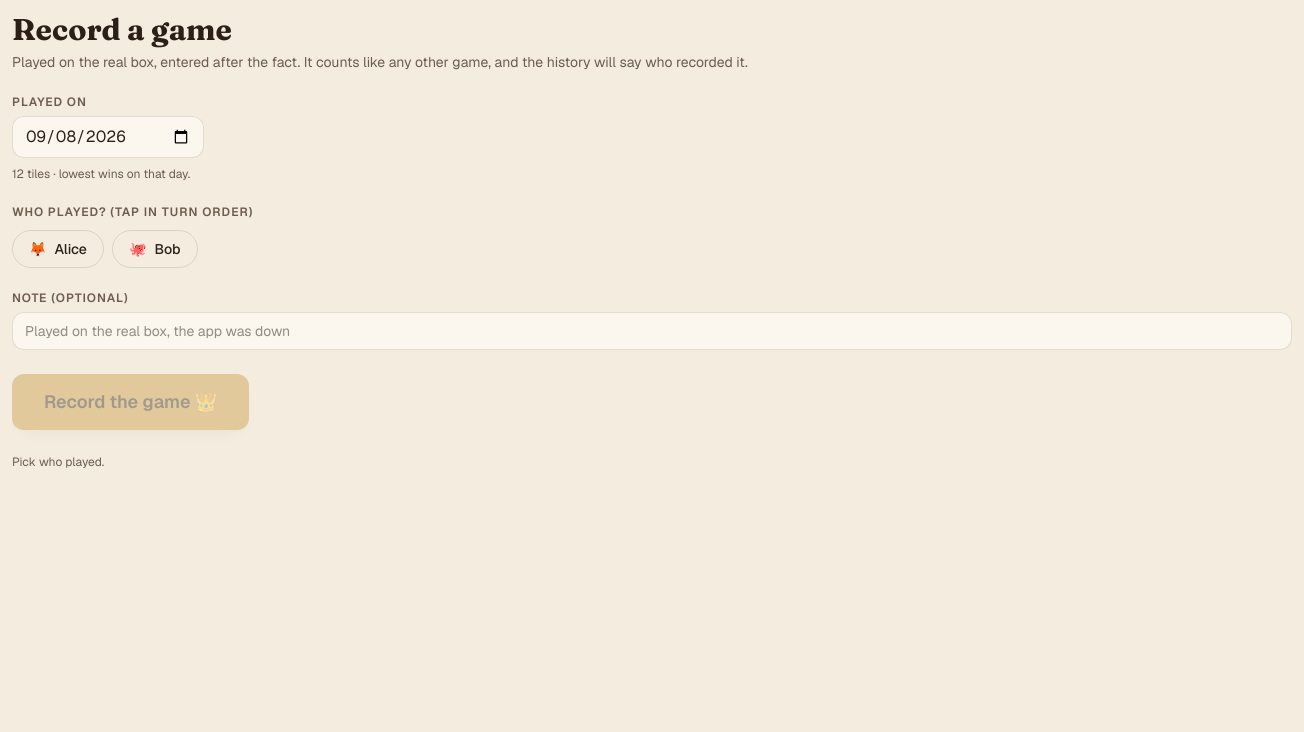
Test: RecordGameForm › will not submit until every picked player has a score or never got a turn
This screenshot has width=1304, height=732.
Expected: the button "Record the game 👑" is disabled, [12,374,249,430]
Click the button "🦊 Alice" at (58, 249), box [12,230,104,268]
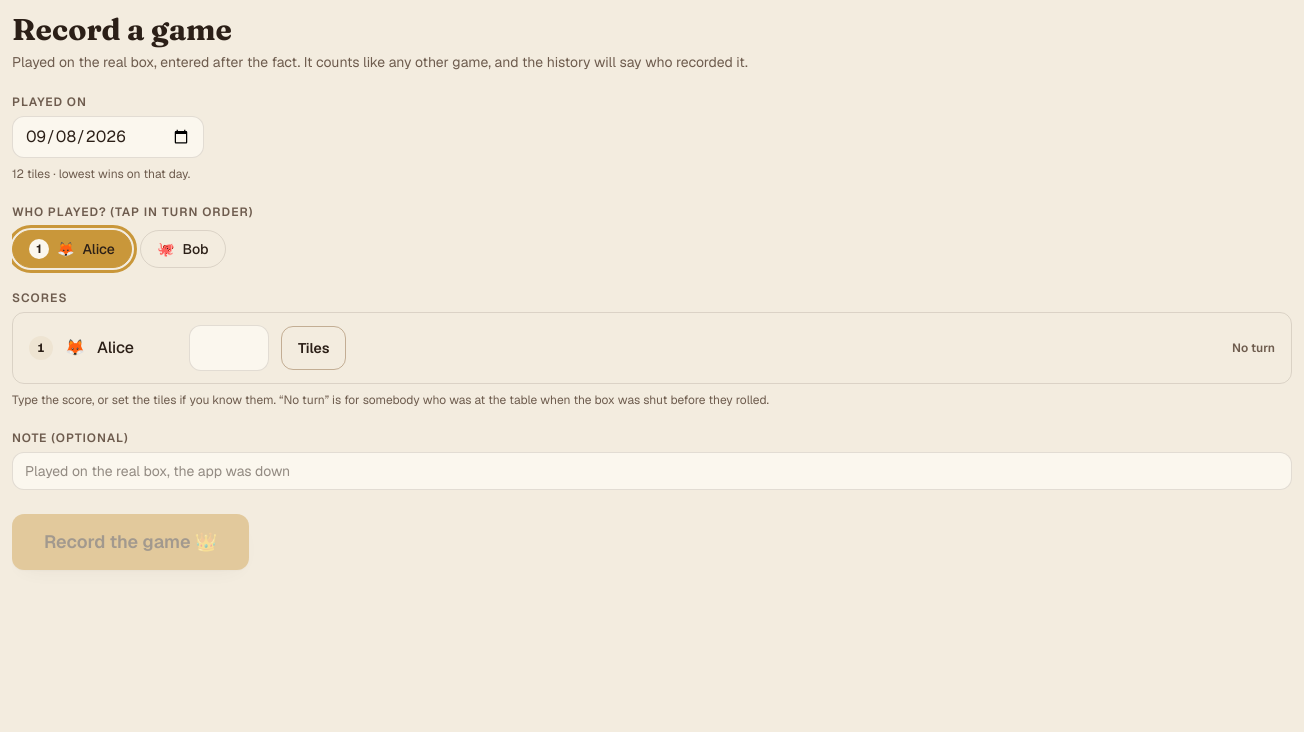
Expected: the button "Record the game 👑" is disabled, [12,514,249,570]
Type "12" into the number field named "Score for Alice" at (229, 348), box [189,325,269,371]
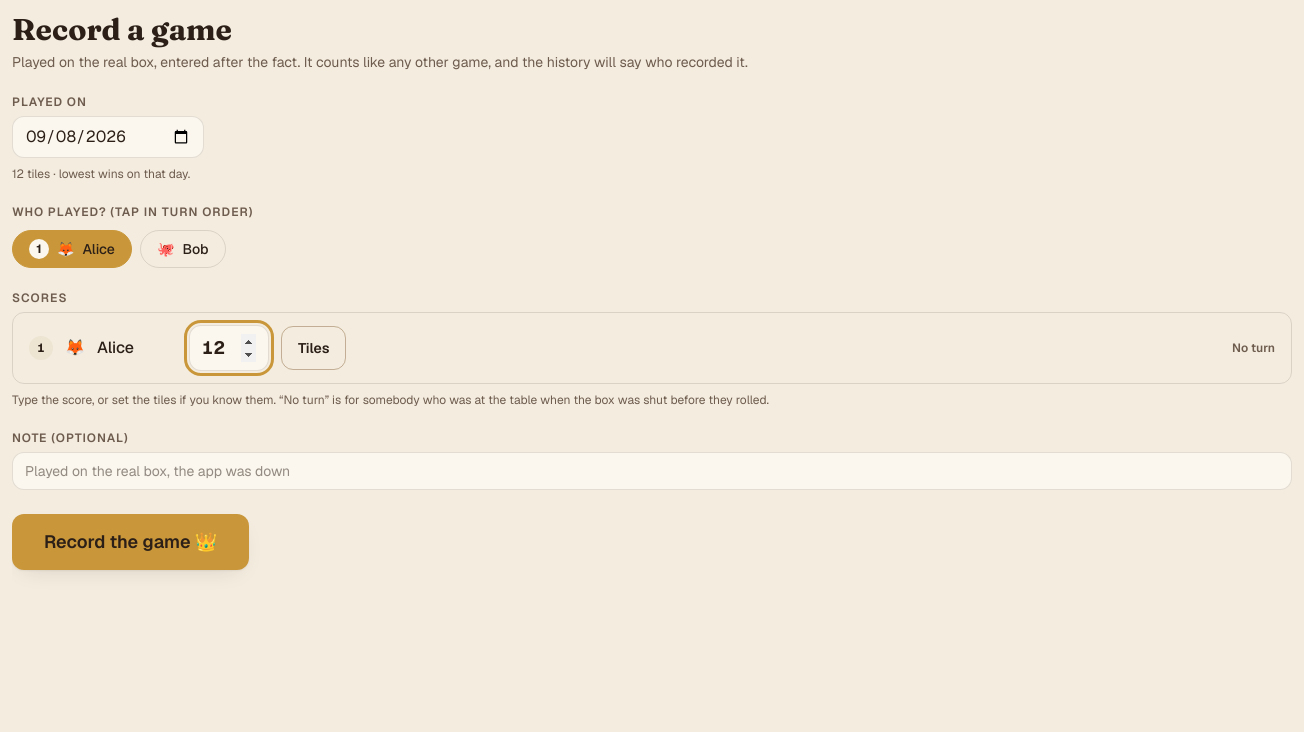
Expected: the button "Record the game 👑" is enabled, [12,514,249,570]
